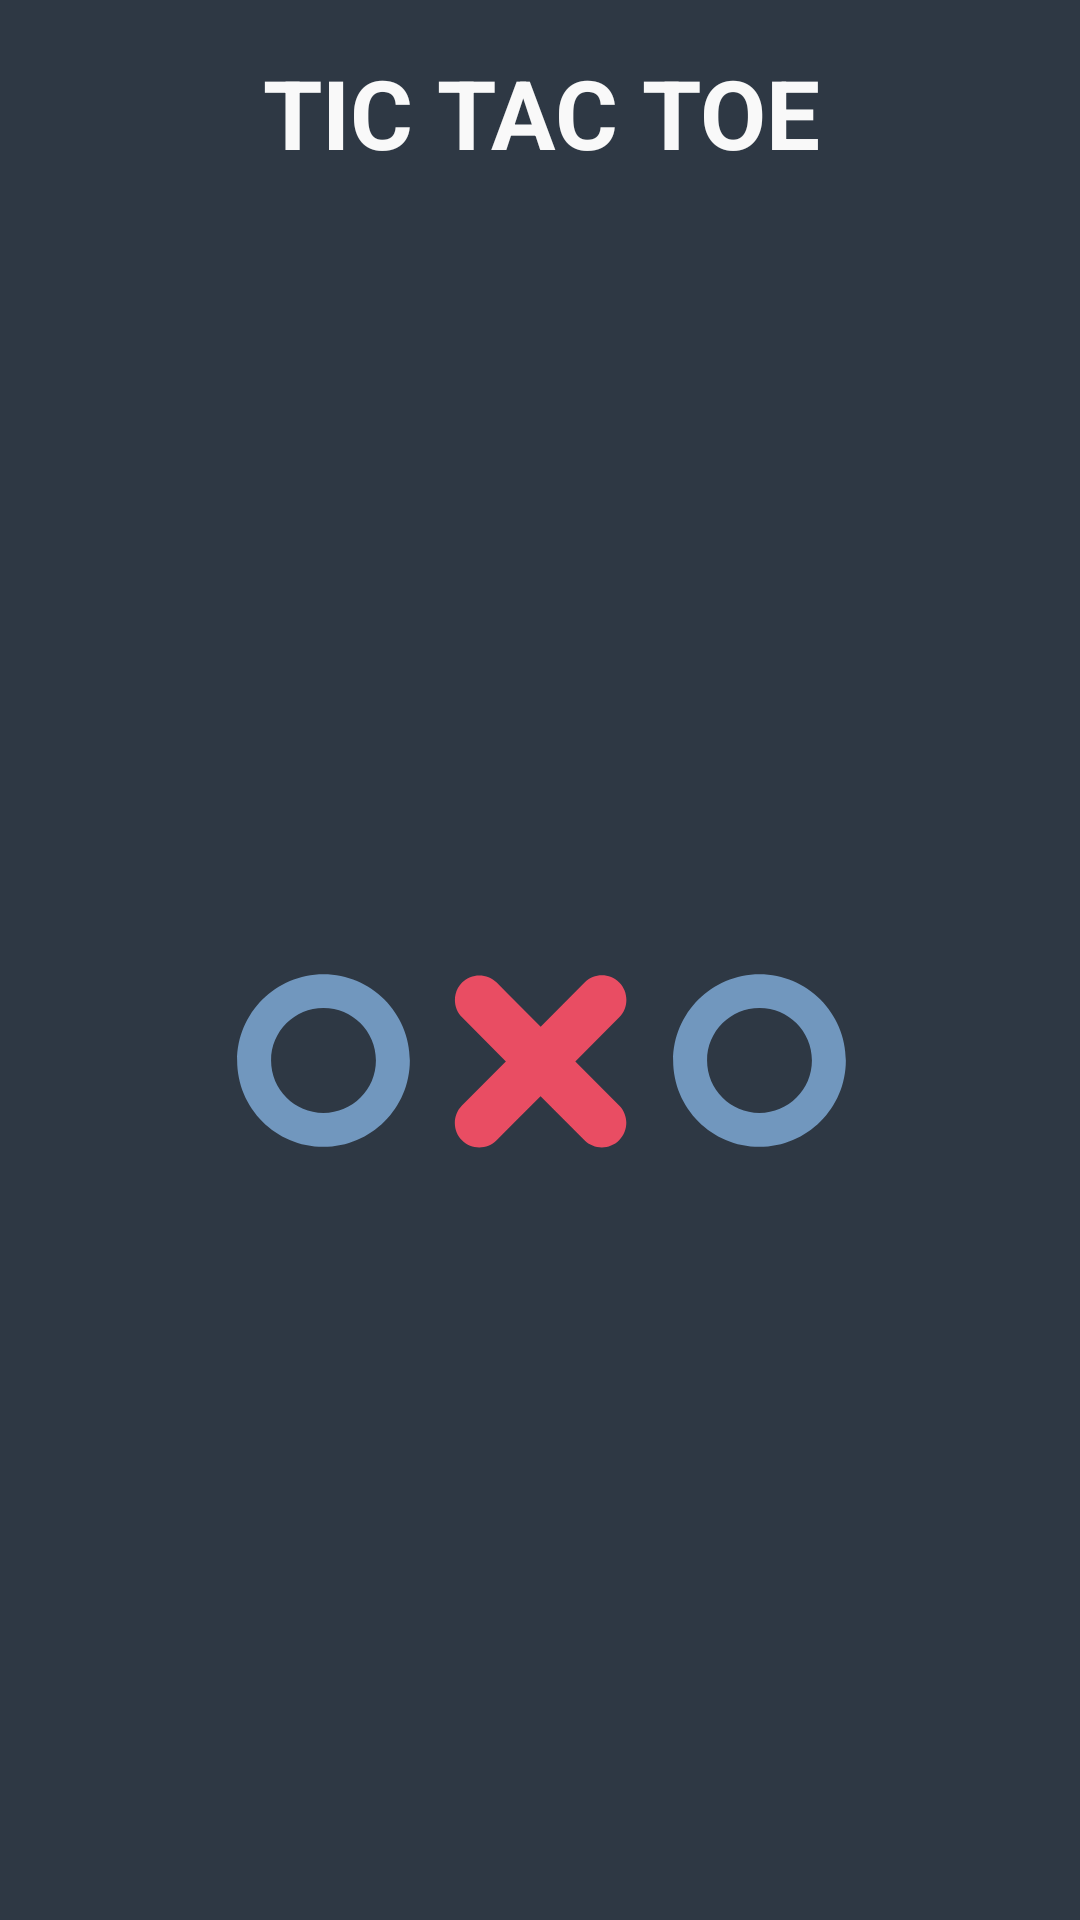

Locate icon controls on the screen. Image size 1080×1920, boxes as (x1, y1, x2, y2).
circle: (237, 974, 410, 1147), (673, 974, 846, 1147)
cross: (454, 975, 627, 1148)
